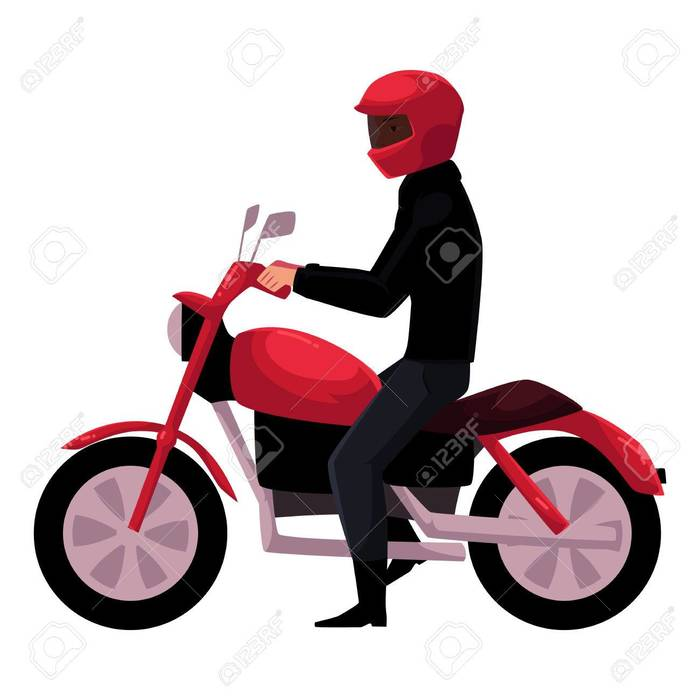h: (353, 66, 473, 182)
